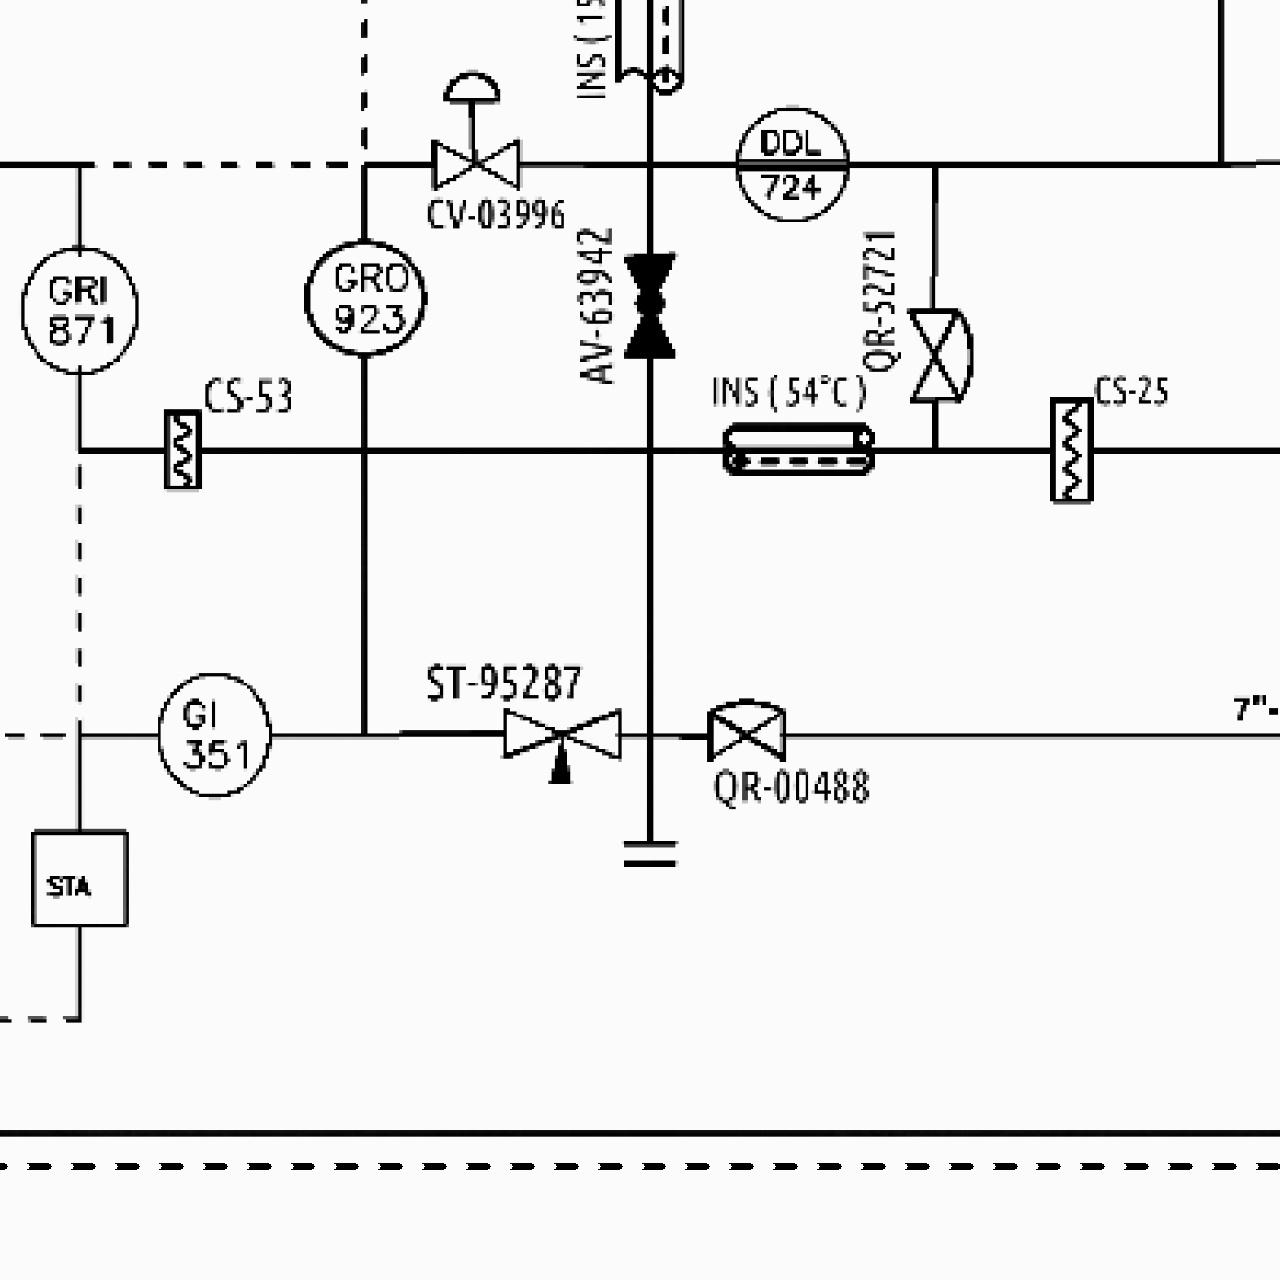Control-Panel: (728, 101, 855, 226)
